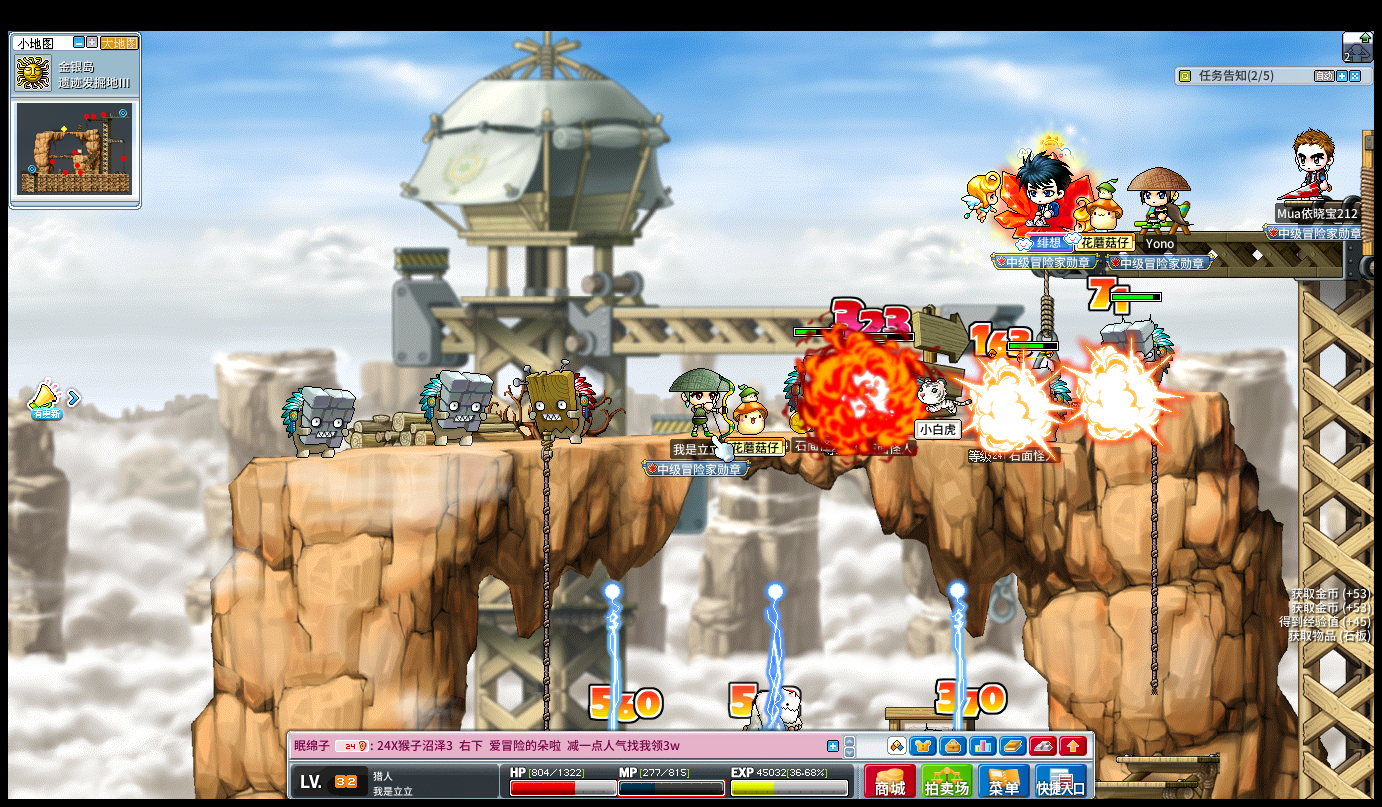floor: (245, 425, 1137, 458), (1116, 753, 1219, 765)
monster: (519, 360, 597, 444), (418, 369, 492, 448), (280, 384, 355, 459)
rope: (1146, 393, 1161, 701), (539, 428, 551, 779), (540, 432, 552, 670)
